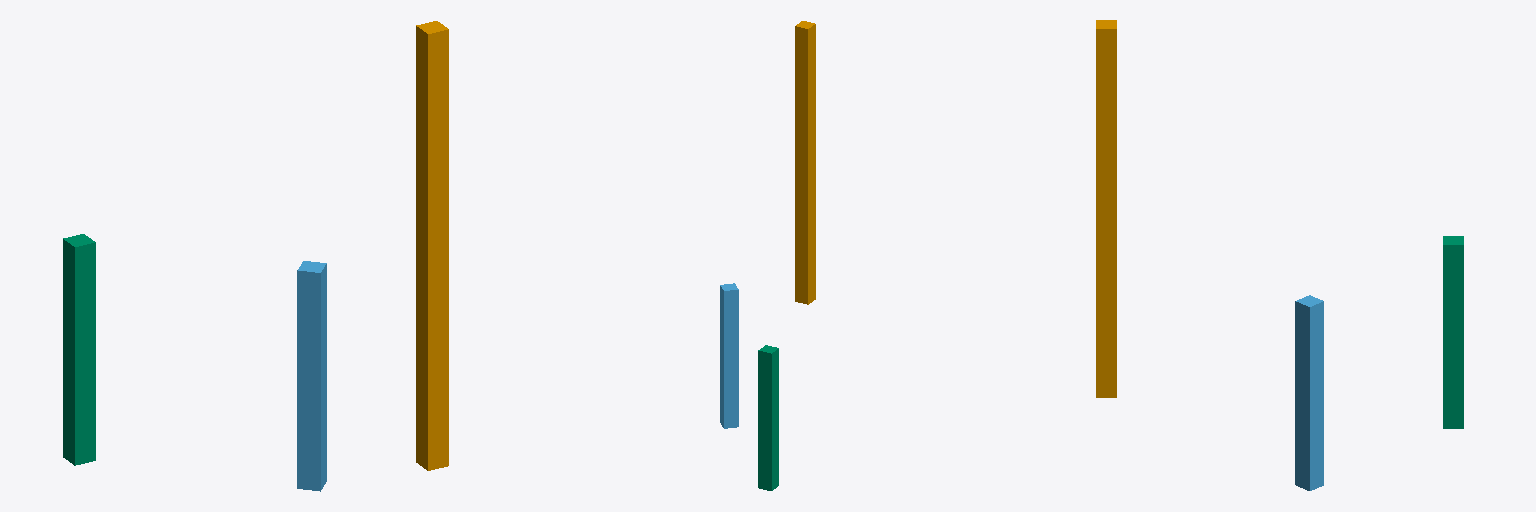
The robot description file, URDF, robot "chained_fixed_joint_links":
<?xml version="1.0" encoding="utf-8"?>
<robot name="chained_fixed_joint_links">
  <gazebo>
    <plugin name='test_plugin' filename='libtest_plugin.so'>
      <serviceName>/test/plugin/service</serviceName>
      <topicName>/test/plugin/topic</topicName>
      <bodyName>link2</bodyName>
      <updateRate>100</updateRate>
      <xyzOffset>0 0 0</xyzOffset>
      <rpyOffset>0 0 0</rpyOffset>
    </plugin>
  </gazebo>

  <!-- Base Link -->
  <link name="base_link">
    <collision>
      <origin rpy="0 0 0" xyz="0 0 0.0"/>
      <geometry>
        <box size="1.0 1.0 1"/>
      </geometry>
    </collision>
    <visual>
      <origin rpy="0 0 0" xyz="0 0 1.0"/>
      <geometry>
        <box size="0.1 0.1 2"/>
      </geometry>
    </visual>
    <inertial>
      <origin xyz="0 0 1" rpy="0 0 0"/>
      <mass value="1"/>
      <inertia
        ixx="1.0" ixy="0.0" ixz="0.0"
        iyy="1.0" iyz="0.0"
        izz="1.0"/>
    </inertial>
  </link>

  <!-- Link 1 -->
  <link name="link1">
    <collision>
      <origin rpy="0 0 0" xyz="0 0 0.0"/>
      <geometry>
        <box size="1.0 1.0 1"/>
      </geometry>
    </collision>
    <visual>
      <origin rpy="0 0 0" xyz="0 0 0.0"/>
      <geometry>
        <box size="0.1 0.1 1"/>
      </geometry>
    </visual>
    <inertial>
      <origin xyz="0 0 1" rpy="0 0 0"/>
      <mass value="1"/>
      <inertia
        ixx="1.0" ixy="0.0" ixz="0.0"
        iyy="1.0" iyz="0.0"
        izz="1.0"/>
    </inertial>
  </link>

  <!-- Link 2 -->
  <link name="link2">
    <collision>
      <origin rpy="0 0 0" xyz="0 0 0.0"/>
      <geometry>
        <box size="1.0 1.0 1"/>
      </geometry>
    </collision>
    <visual>
      <origin rpy="0 0 0" xyz="0 0 0.0"/>
      <geometry>
        <box size="0.1 0.1 1"/>
      </geometry>
    </visual>
    <inertial>
      <origin xyz="0 0 1" rpy="0 0 0"/>
      <mass value="1"/>
      <inertia
        ixx="1.0" ixy="0.0" ixz="0.0"
        iyy="1.0" iyz="0.0"
        izz="1.0"/>
    </inertial>
  </link>

  <!-- Joint 1 -->
  <joint name="joint1" type="fixed">
    <parent link="base_link"/>
    <child link="link1"/>
    <origin rpy="0 0 0.7854" xyz="0 1.0 0.0"/>
    <dynamics damping="0.7"/>
  </joint>

  <!-- Joint 2 -->
  <joint name="joint2" type="fixed">
    <parent link="link1"/>
    <child link="link2"/>
    <origin rpy="0 0 0.7854" xyz="0 1.0 0.0"/>
    <axis xyz="0 1 0"/>
    <dynamics damping="0.7"/>
  </joint>
</robot>

--- Render facts (derived) ---
3 views of the same robot in one strip: view 1: azimuth 30°, elevation 25°; view 2: azimuth 150°, elevation 25°; view 3: azimuth 270°, elevation 25° (orthographic).
Robot: chained_fixed_joint_links — 3 links, 2 joints (2 fixed); root link base_link; default pose: every joint at zero.
Visible links, largest first — view 1: base_link, link2, link1; view 2: base_link, link2, link1; view 3: base_link, link1, link2.
Boxes of the visible links, x1,y1,x2,y2 form: base_link: (416,21,448,470); link2: (63,234,95,465); link1: (297,261,326,491); base_link: (795,21,815,304); link2: (758,345,778,490); link1: (720,283,738,428); base_link: (1096,20,1116,397); link1: (1295,295,1323,490); link2: (1443,236,1463,428).
Bounding box of the posed robot: 0.8278 × 1.81 × 2.5 m (x, y, z).
Geometry: primitives only (box / cylinder / sphere), no mesh files.
